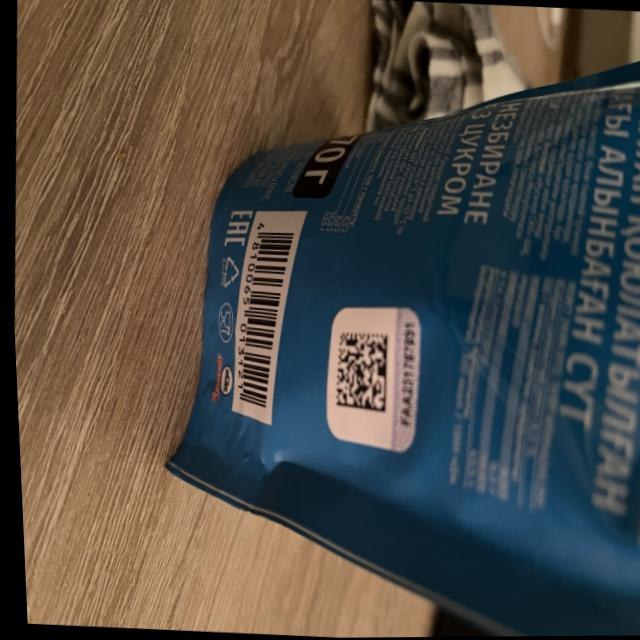datamatrix: (329, 332, 388, 415)
